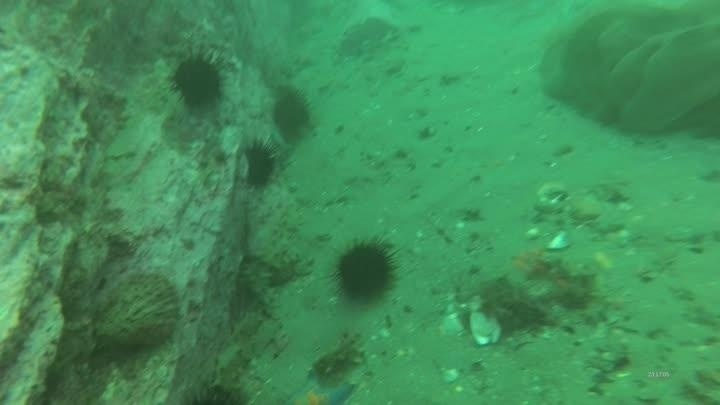echinus: (330, 236, 401, 306), (167, 49, 229, 114), (269, 86, 315, 143), (238, 137, 281, 191)
holothurian: (208, 310, 266, 404), (251, 195, 305, 272), (307, 328, 367, 381), (238, 252, 278, 320)
starfish: (283, 371, 358, 403)
